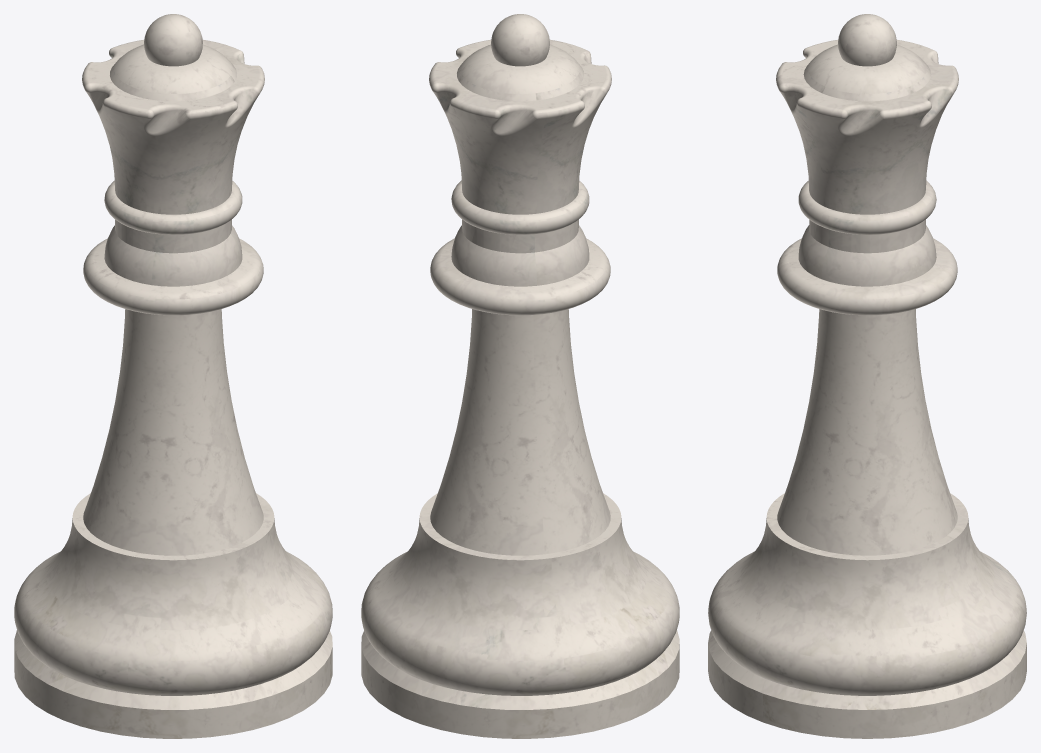
The model's file is White-Queen.glb.
3 views of the same model, side by side, from view 1: azimuth 30°, elevation 25°; view 2: azimuth 150°, elevation 25°; view 3: azimuth 270°, elevation 25° (orthographic).
Parts seen in each view (by area): view 1: ASSET_Joined; view 2: ASSET_Joined; view 3: ASSET_Joined.
Boxes of the visible parts, bbox=[...] form: ASSET_Joined: bbox=[14, 14, 332, 738]; ASSET_Joined: bbox=[361, 14, 679, 738]; ASSET_Joined: bbox=[708, 14, 1026, 738].
Bounding box in the file's own units: 18.77 × 42.54 × 18.77.
Materials: 1 (1 with a texture image).
